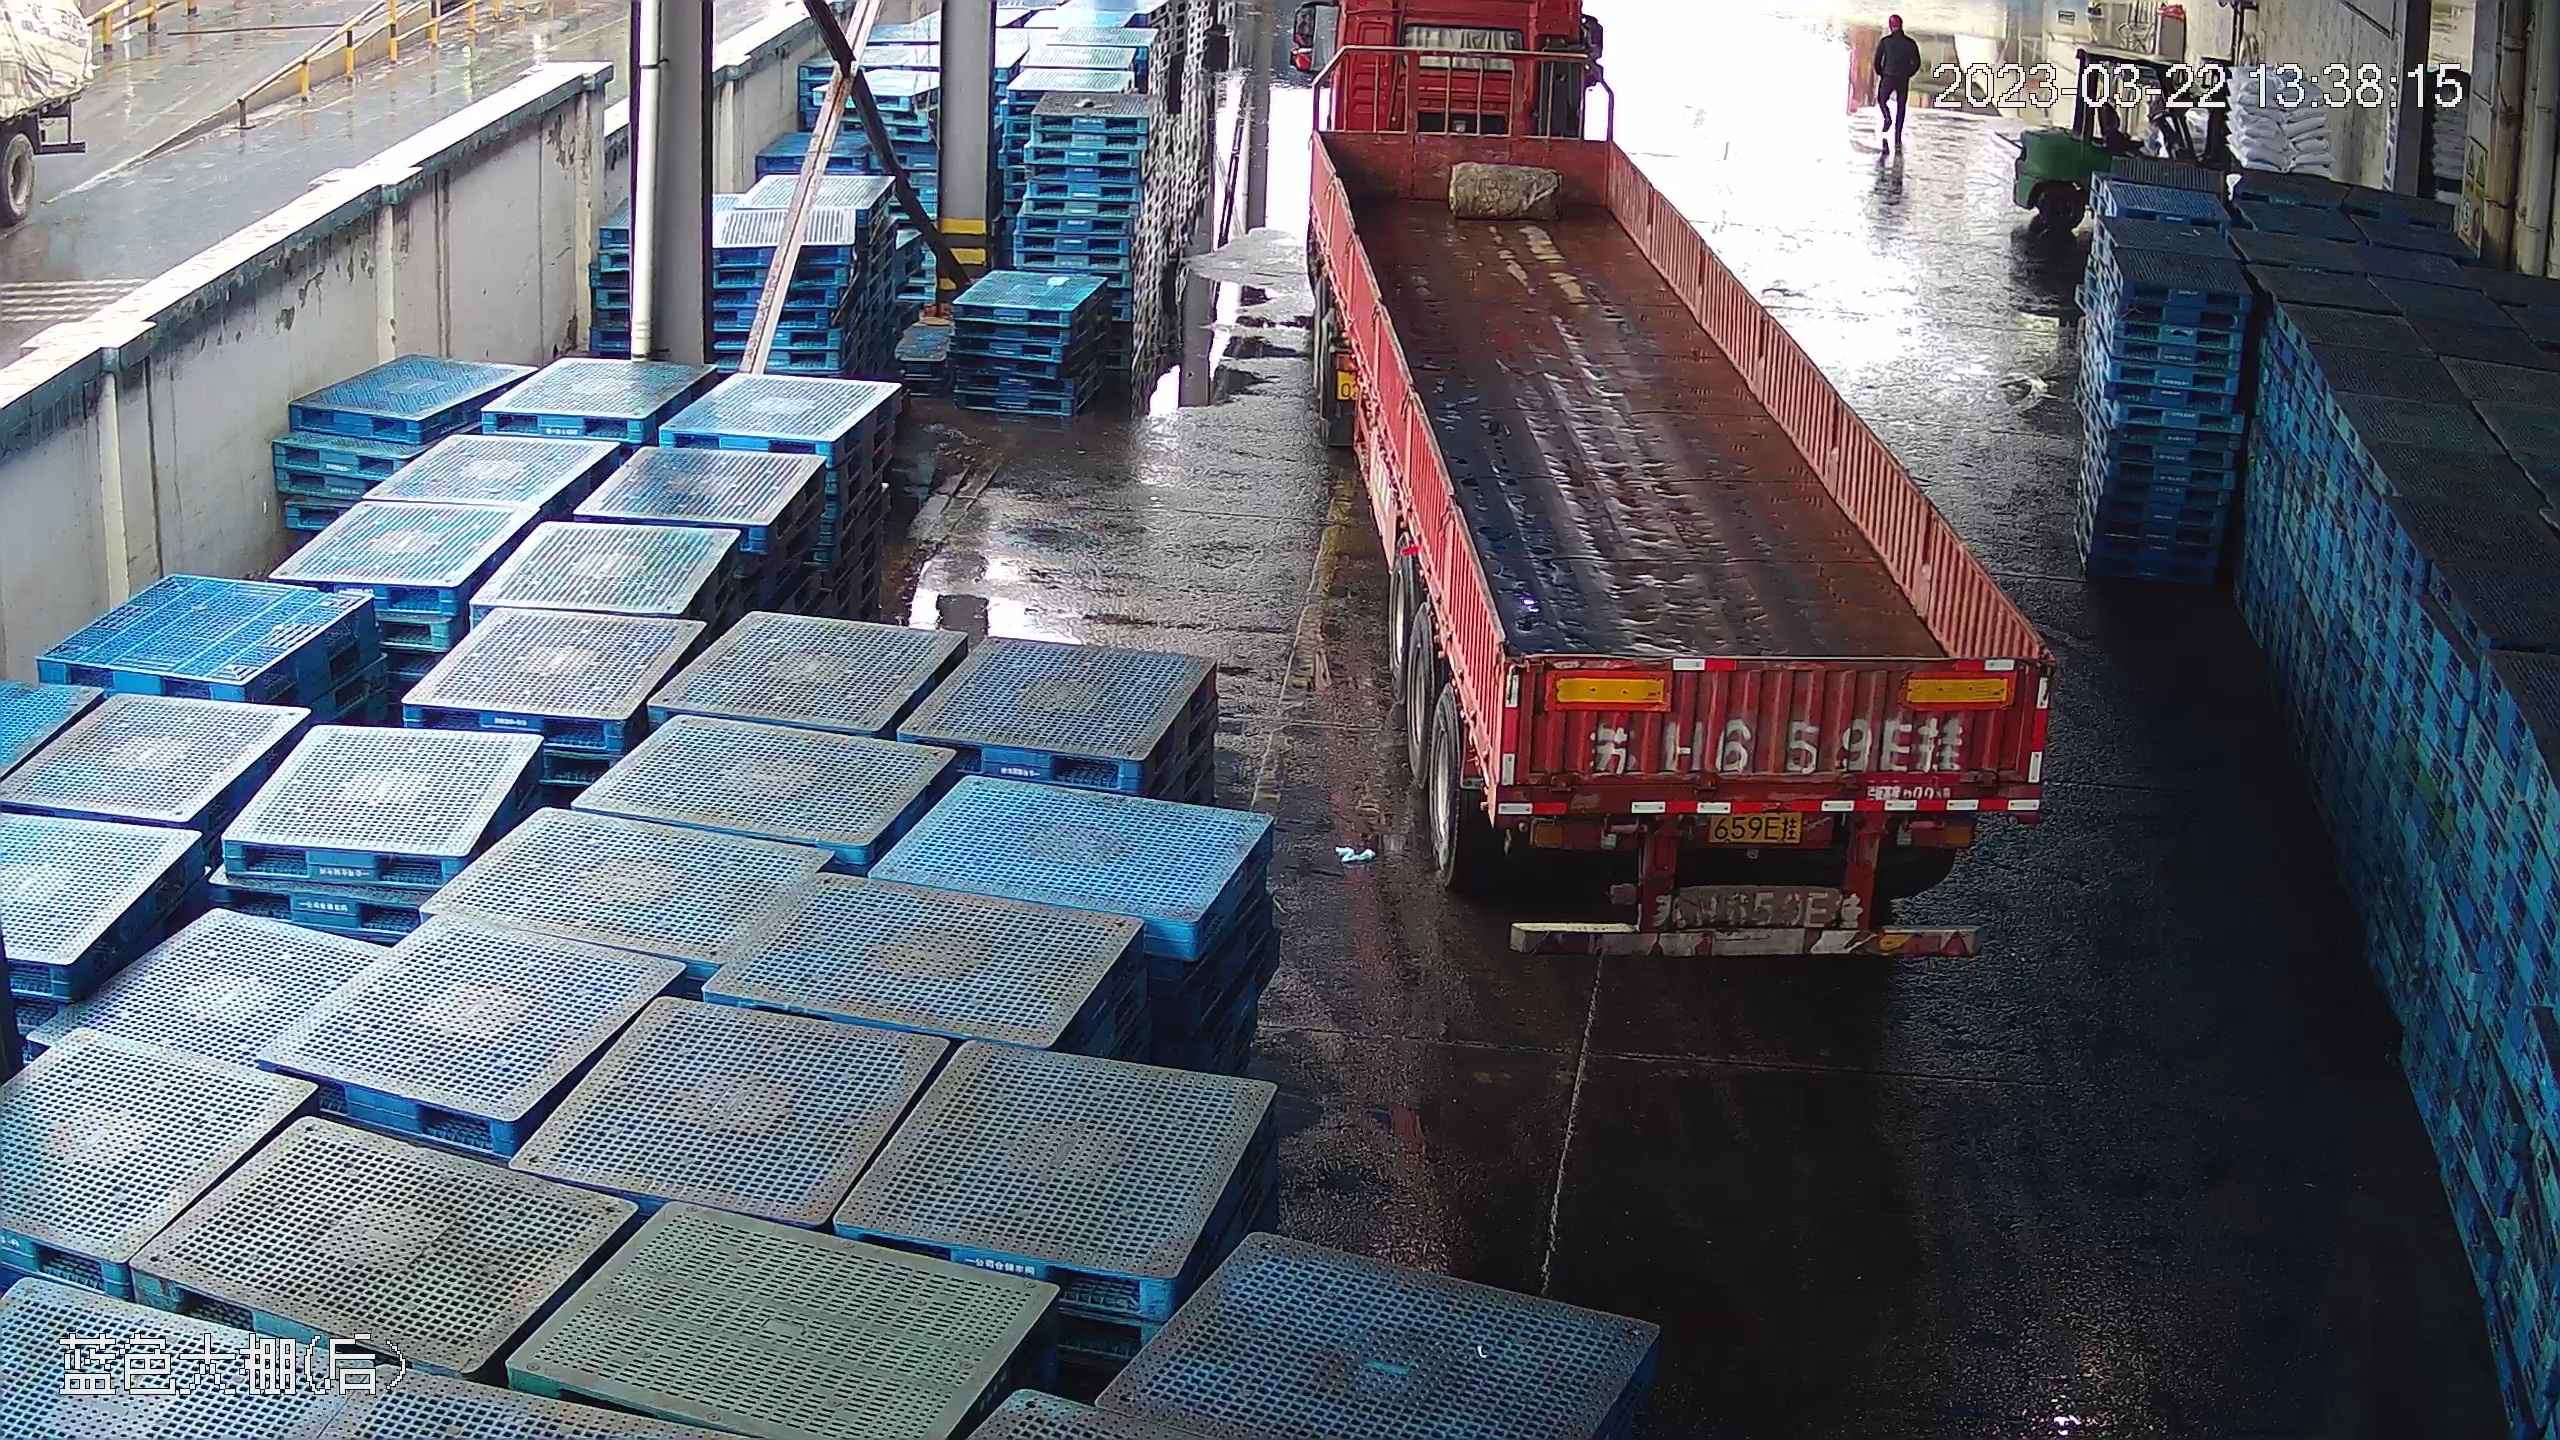head: (1879, 11, 1918, 57)
helmet: (1887, 12, 1905, 30)
people: (1871, 8, 1922, 132)
truck: (1280, 4, 2072, 969)
